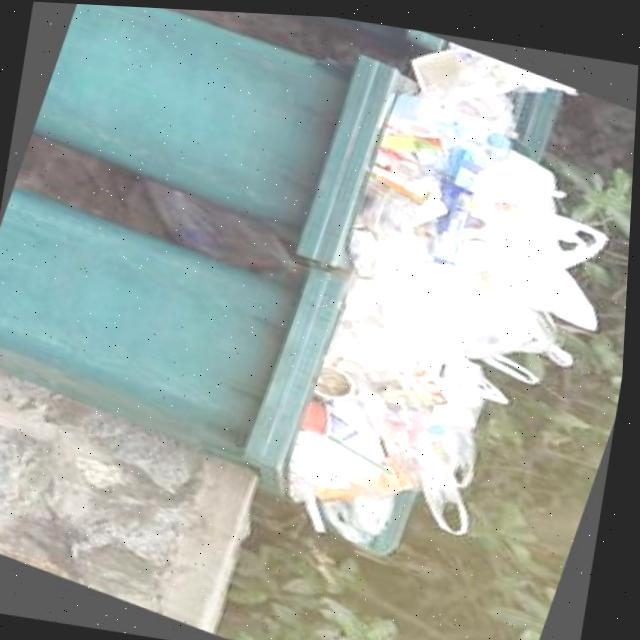Garbage: (287, 42, 605, 541)
Plastic_Bag: (456, 217, 598, 322)
